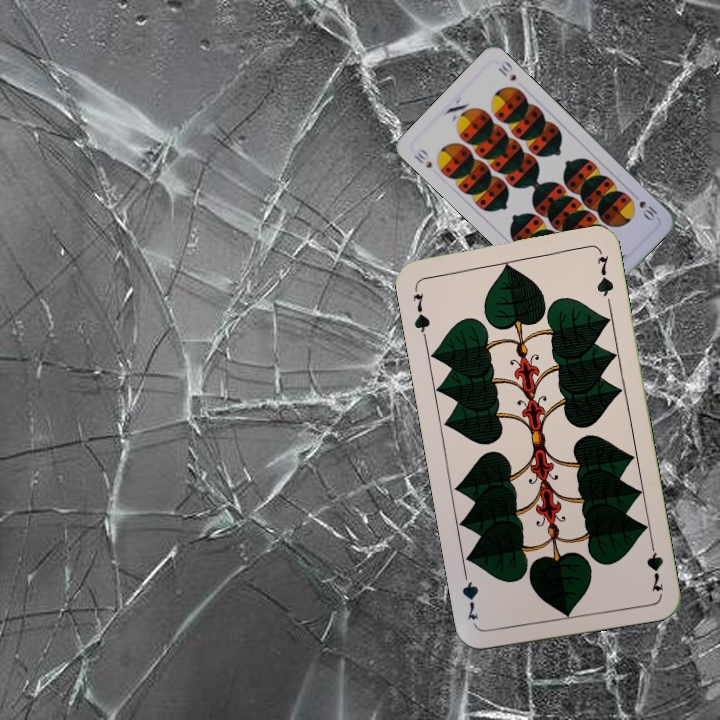G7: (642, 535, 666, 594), (409, 288, 433, 341)
S10: (410, 144, 435, 171), (635, 197, 660, 223)
